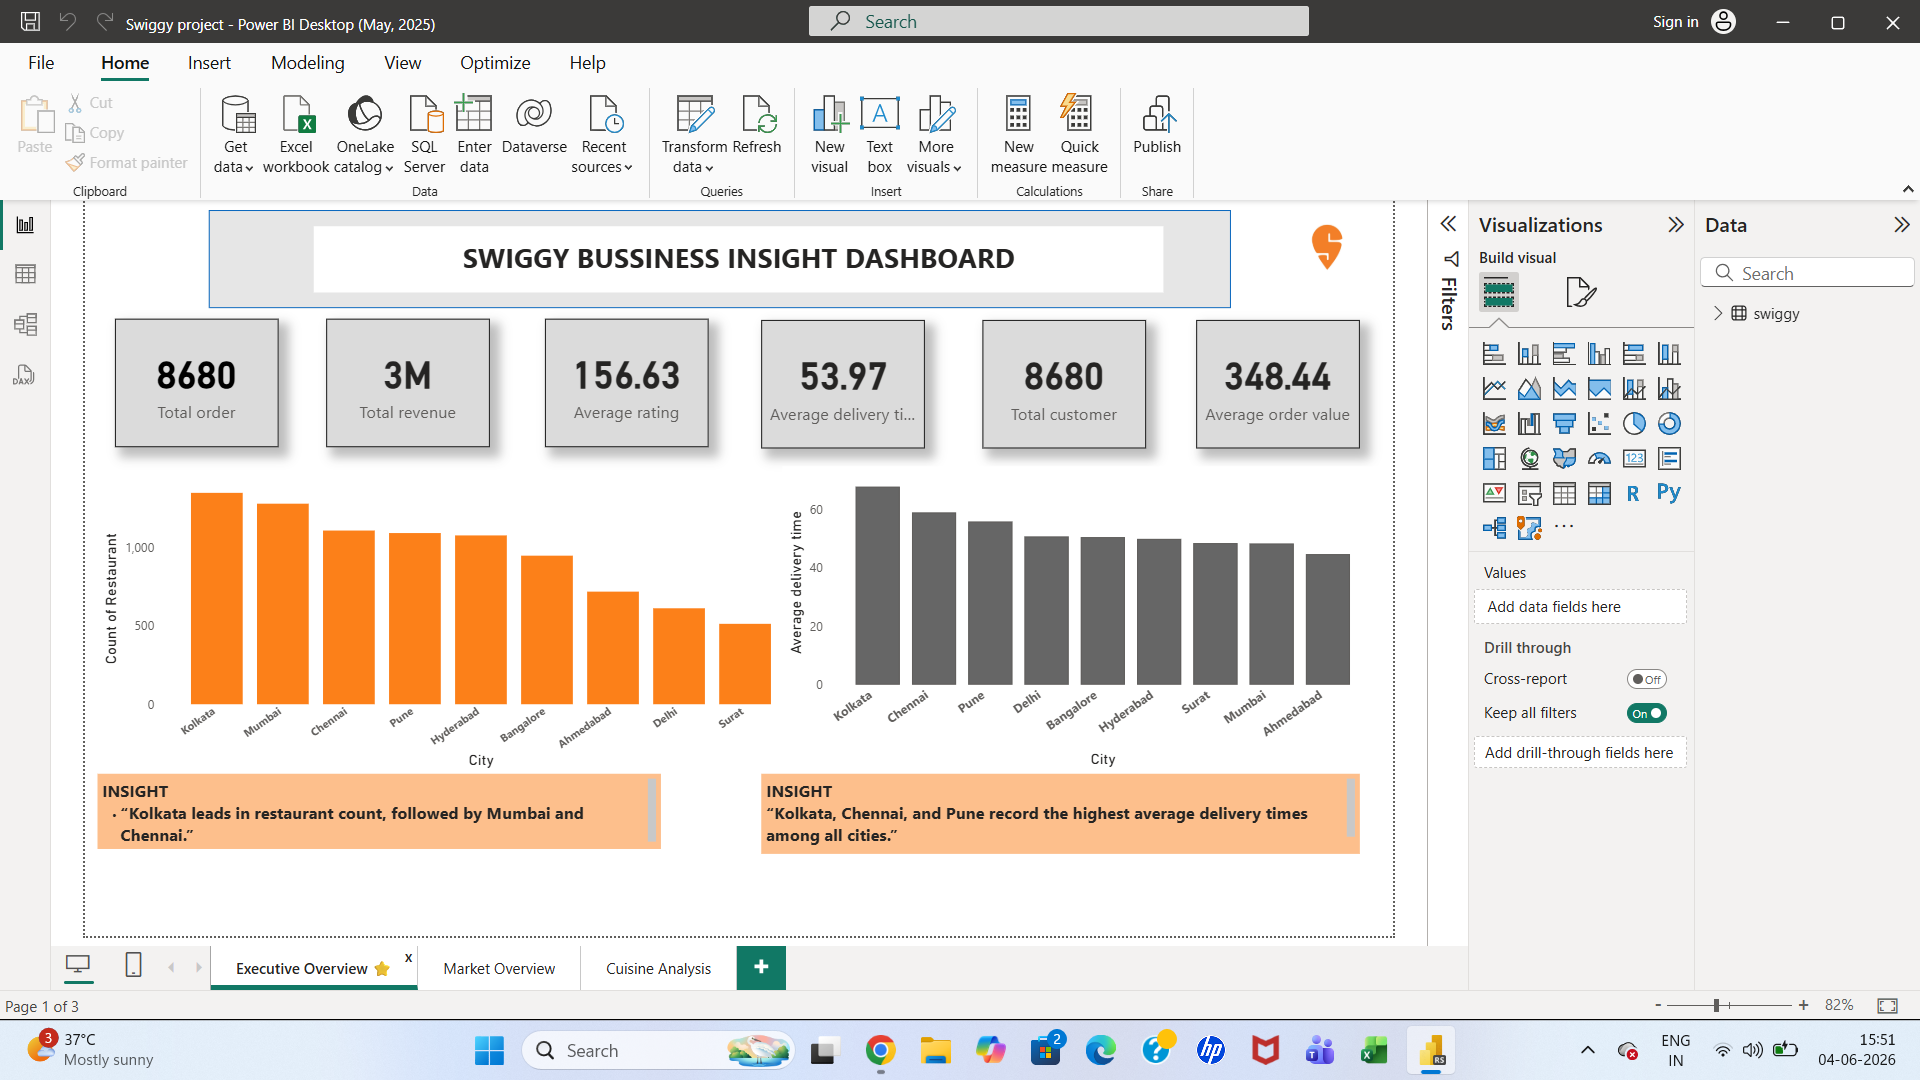

Layout of this report page (visuals, bound fields, positions):
{"tool":"powerbi","page":{"name":"Executive Overview ⭐","canvas":[1280,720],"ordinal":0},"visuals":[{"type":"shape","box":[120.8,9.6,1000,96.1],"z":0},{"type":"textbox","box":[224.2,26.1,831.6,64.5],"z":1000},{"type":"image","box":[1149.9,0,130.4,87.8],"z":2000},{"type":"card","fields":{"Values":["swiggy.Total order"]},"box":[29.3,116.2,160.2,126],"z":3000},{"type":"card","fields":{"Values":["swiggy.Total customer"]},"box":[878,117.4,160.2,126],"z":4000},{"type":"card","fields":{"Values":["swiggy.Average order value"]},"box":[1087.1,117.4,160.2,126],"z":5000},{"type":"card","fields":{"Values":["swiggy.Average delivery time"]},"box":[661.6,117.4,160.2,126],"z":6000},{"type":"card","fields":{"Values":["swiggy.Average rating"]},"box":[450,116.2,160.2,126],"z":7000},{"type":"card","fields":{"Values":["swiggy.Total revenue"]},"box":[236,116.2,160.2,126],"z":8000},{"type":"clusteredColumnChart","fields":{"Category":["swiggy.City"],"Y":["CountNonNull(swiggy.Restaurant)"]},"box":[12.2,272.7,690.9,288.6],"z":9000},{"type":"textbox","box":[12.2,561.3,551.5,73.4],"z":10000},{"type":"columnChart","fields":{"Y":["swiggy.Average delivery time"],"Category":["swiggy.City"]},"box":[682.3,260.5,583.3,299.6],"z":11000},{"type":"textbox","box":[661.6,561.3,585.7,78.3],"z":12000}]}

Visuals, with their boxes on the page's 1280x720 design canvas (x1, y1, x2, y2). These are canvas units, not pixel positions in the 1920x1080 screenshot, which may show the page scaled, cropped or inside an application window:
shape: <box>121,10,1121,106</box>
textbox: <box>224,26,1056,91</box>
image: <box>1150,0,1280,88</box>
card - swiggy.Total order: <box>29,116,190,242</box>
card - swiggy.Total customer: <box>878,117,1038,243</box>
card - swiggy.Average order value: <box>1087,117,1247,243</box>
card - swiggy.Average delivery time: <box>662,117,822,243</box>
card - swiggy.Average rating: <box>450,116,610,242</box>
card - swiggy.Total revenue: <box>236,116,396,242</box>
clusteredColumnChart - swiggy.City x CountNonNull(swiggy.Restaurant): <box>12,273,703,561</box>
textbox: <box>12,561,564,635</box>
columnChart - swiggy.Average delivery time x swiggy.City: <box>682,260,1266,560</box>
textbox: <box>662,561,1247,640</box>
